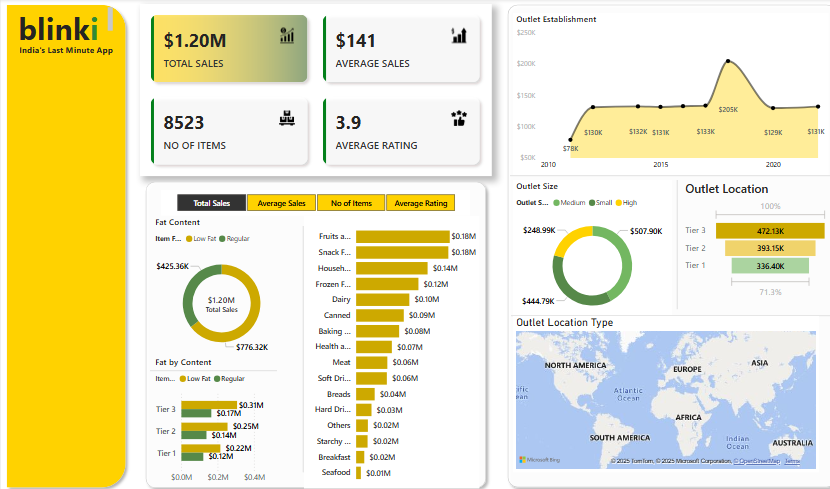

The page's visual inventory and layout, read from the dashboard file:
{"tool":"powerbi","page":{"name":"Page 1","canvas":[1400,800],"ordinal":0},"visuals":[{"type":"shape","box":[0,0,205.1,778.2],"z":0},{"type":"textbox","box":[17.9,65.4,170.5,28.2],"z":1000},{"type":"textbox","box":[21.8,7.7,159,79.5],"z":2000},{"type":"cardVisual","fields":{"Data":["BlinkIT Grocery Data.Total Sales","BlinkIT Grocery Data.Average Sales","BlinkIT Grocery Data.No of Items","BlinkIT Grocery Data.Average Rating"]},"box":[219.2,7.7,553.8,270.5],"z":3000},{"type":"shape","box":[219.2,278.2,553.8,500],"z":4000},{"type":"donutChart","title":"Fat Content","fields":{"Y":["BlinkIT Grocery Data.Total Sales"],"Category":["BlinkIT Grocery Data.Item Fat Content"]},"box":[237.2,341,219.2,230.8],"z":5000},{"type":"slicer","fields":{"Values":["Metrics.Metrics"]},"box":[251.3,301.3,487.2,39.7],"z":6000},{"type":"cardVisual","fields":{"Data":["BlinkIT Grocery Data.Total Sales"]},"box":[300,447.4,93.6,53.8],"z":7000},{"type":"clusteredBarChart","title":"Fat by Content","fields":{"Y":["BlinkIT Grocery Data.Total Sales"],"Category":["BlinkIT Grocery Data.Outlet Location Type"],"Series":["BlinkIT Grocery Data.Item Fat Content"]},"box":[237.2,561.5,197.4,209],"z":8000},{"type":"shape","box":[234.6,574.4,200,20.5],"z":9000},{"type":"shape","box":[467.9,357.7,16.7,388.5],"z":10000},{"type":"barChart","title":"ITEM TYPE","fields":{"Y":["BlinkIT Grocery Data.Total Sales"],"Category":["BlinkIT Grocery Data.Item Type"]},"box":[476.9,341,275.6,429.5],"z":11000},{"type":"shape","box":[788.5,0,535.9,778.2],"z":12000},{"type":"stackedAreaChart","title":"Outlet Establishment","fields":{"Y":["BlinkIT Grocery Data.Total Sales"],"Category":["BlinkIT Grocery Data.Outlet Establishment Year"]},"box":[806.4,21.8,497.4,256.4],"z":13000},{"type":"shape","box":[801.3,267.9,506.4,20.5],"z":14000},{"type":"donutChart","title":"Outlet Size","fields":{"Y":["BlinkIT Grocery Data.Total Sales"],"Category":["BlinkIT Grocery Data.Outlet Size"]},"box":[806.4,284.6,250,225.6],"z":15000},{"type":"shape","box":[1056.4,284.6,16.7,203.8],"z":16000},{"type":"funnel","title":"Outlet Location","fields":{"Category":["BlinkIT Grocery Data.Outlet Location Type"],"Y":["Sum(BlinkIT Grocery Data.Sales)"]},"box":[1073.1,284.6,234.6,189.7],"z":17000},{"type":"shape","box":[802.6,488.5,506.4,20.5],"z":18000},{"type":"map","box":[806.3,499.2,481.9,245.7],"z":18001}]}

Visuals, with their boxes on the page's 1400x800 design canvas (x1, y1, x2, y2). These are canvas units, not pixel positions in the 830x489 screenshot, which may show the page scaled, cropped or inside an application window:
shape: 0 0 205 778
textbox: 18 65 188 94
textbox: 22 8 181 87
cardVisual - BlinkIT Grocery Data.Total Sales x BlinkIT Grocery Data.Average Sales: 219 8 773 278
shape: 219 278 773 778
"Fat Content" donutChart: 237 341 456 572
slicer - Metrics.Metrics: 251 301 738 341
cardVisual - BlinkIT Grocery Data.Total Sales: 300 447 394 501
"Fat by Content" clusteredBarChart: 237 562 435 770
shape: 235 574 435 595
shape: 468 358 485 746
"ITEM TYPE" barChart: 477 341 752 770
shape: 788 0 1324 778
"Outlet Establishment" stackedAreaChart: 806 22 1304 278
shape: 801 268 1308 288
"Outlet Size" donutChart: 806 285 1056 510
shape: 1056 285 1073 488
"Outlet Location" funnel: 1073 285 1308 474
shape: 803 488 1309 509
map: 806 499 1288 745
